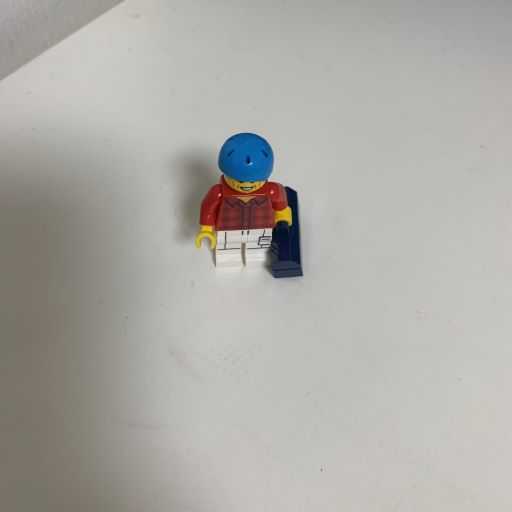human: (177, 124, 327, 288)
